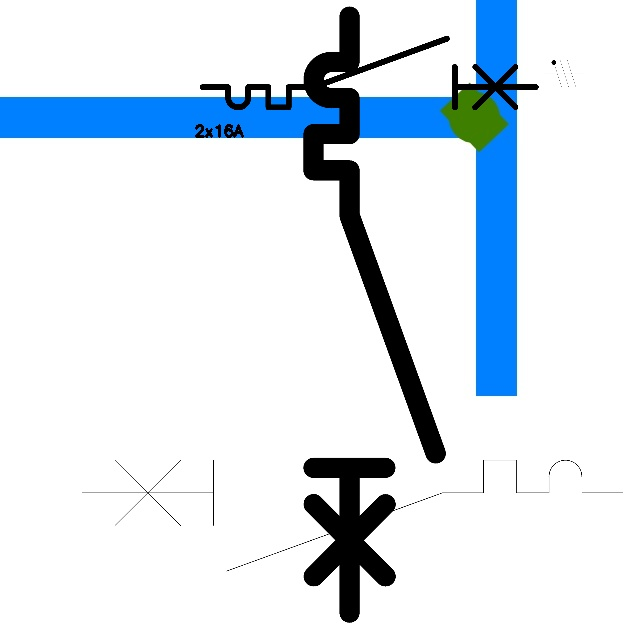interruptor_termomagnetico: (298, 1, 451, 628), (68, 446, 637, 585), (194, 30, 544, 116)
